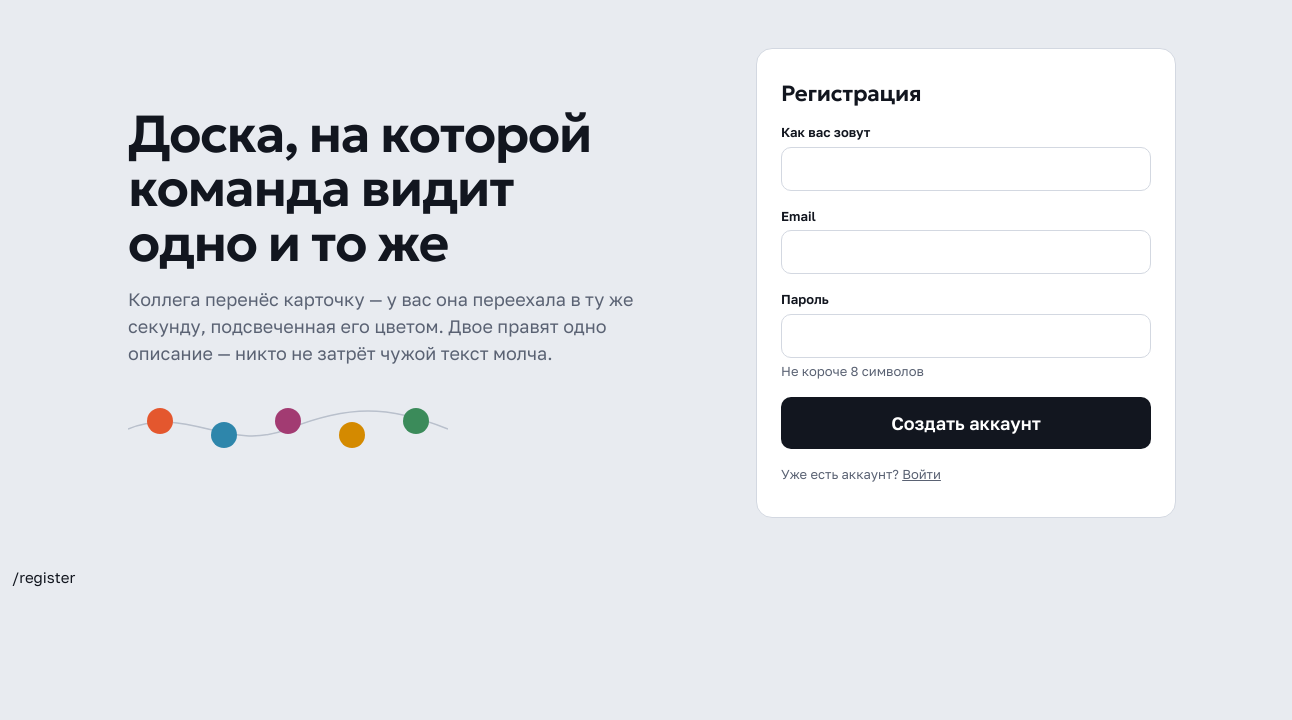
Scenario: вход › регистрация: ошибки валидации — у полей
In the field labelled "Как вас зовут": point(966, 169) [781,147,1151,191], type "Айбол"
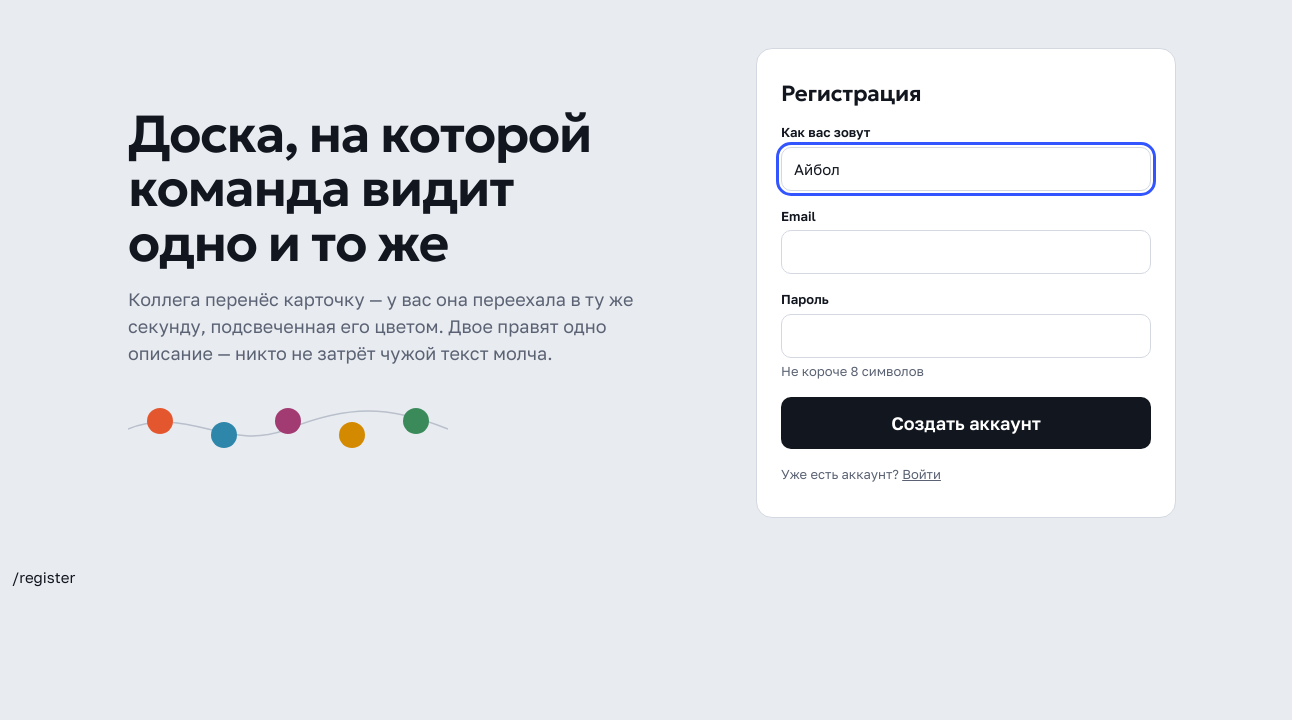
In the field labelled "Email": point(966, 252) [781,230,1151,274], type "a@test.kz"
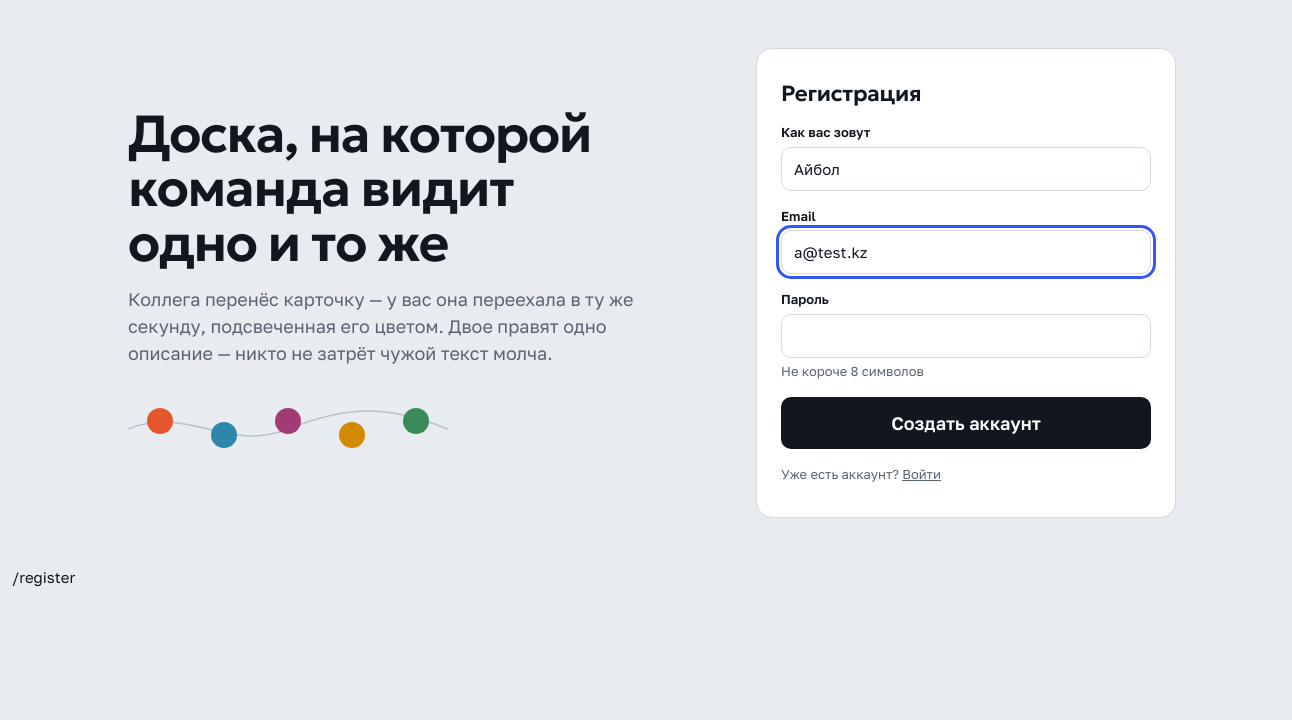
In the password field labelled "Пароль": point(966, 336) [781,314,1151,358], type "short"
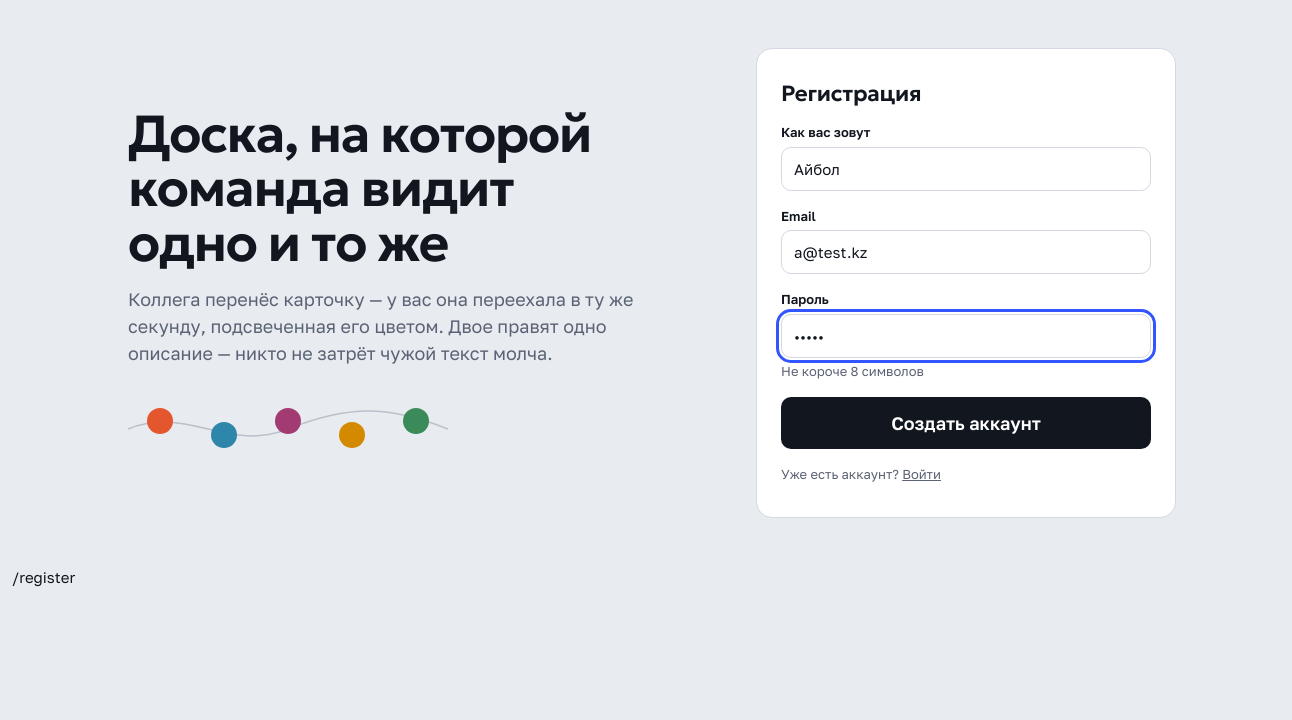
Click the button "Создать аккаунт": point(966, 423) [781,397,1151,449]
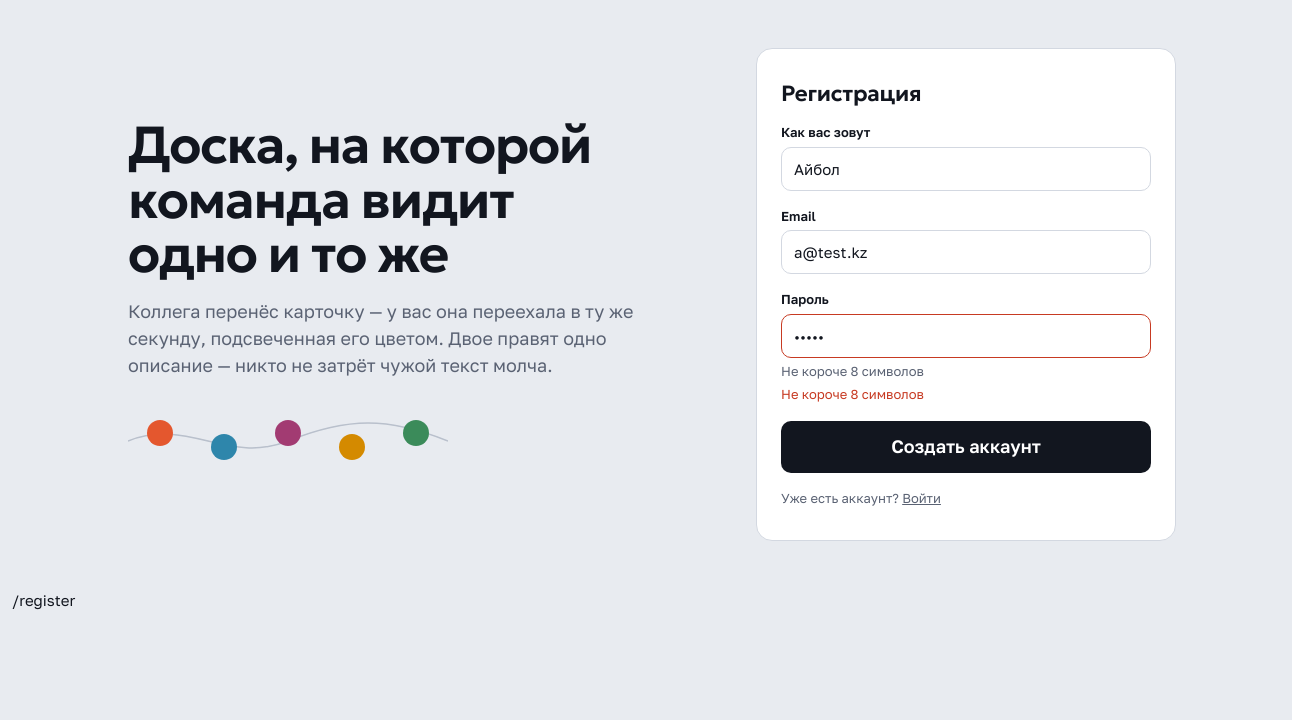
Expected: the 2nd text "Не короче 8 символов" is shown, [781,386,924,402]
